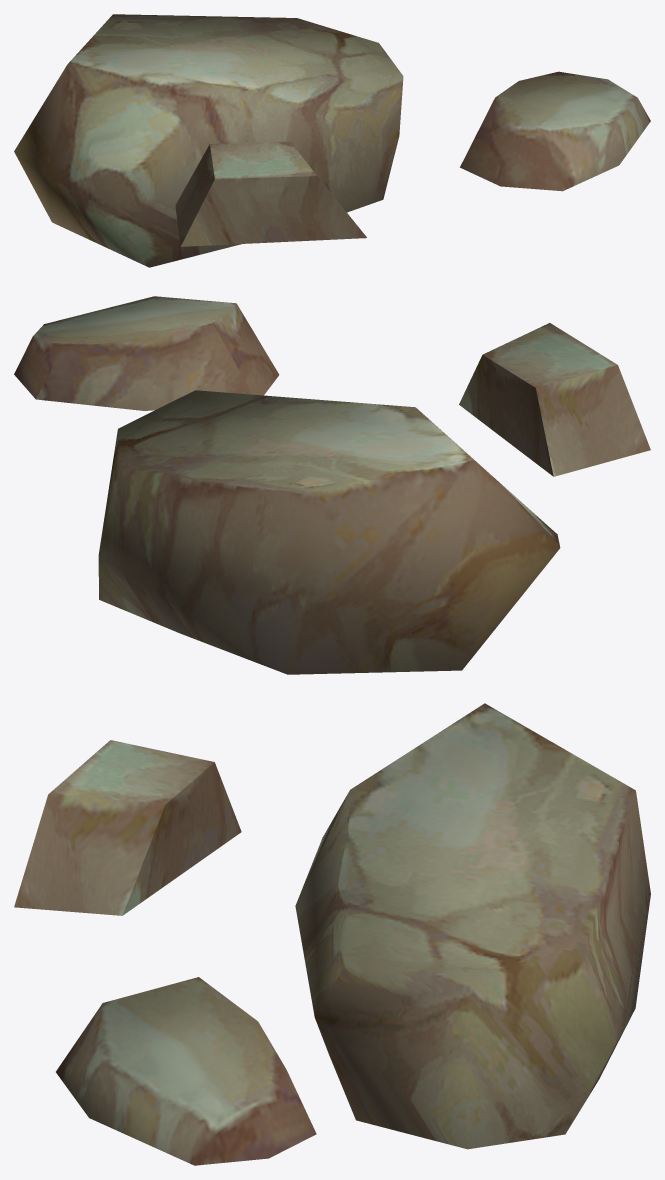
File: Map_08_stone06.FBX
3 views of the same model, one above another, from view 1: azimuth 30°, elevation 25°; view 2: azimuth 150°, elevation 25°; view 3: azimuth 270°, elevation 25° (orthographic). The views are drawn at different scales.
Visible parts, largest first — view 1: Map_08_stone06; view 2: Map_08_stone06; view 3: Map_08_stone06.
Boxes of the visible parts, x1,y1,x2,y2 form: Map_08_stone06: (14,14,650,267); Map_08_stone06: (14,296,650,674); Map_08_stone06: (14,703,650,1165).
Bounding box in the file's own units: 48.19 × 14.82 × 36.31.
Materials: 1 (1 with a texture image).
